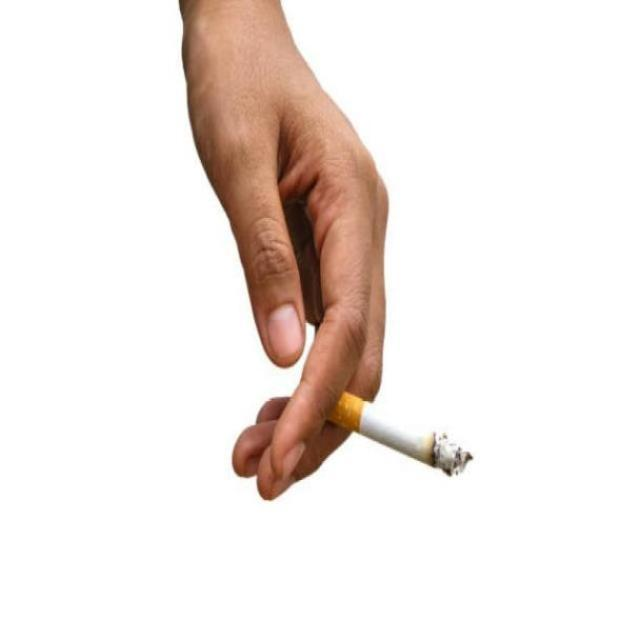rokok: (324, 384, 478, 492)
